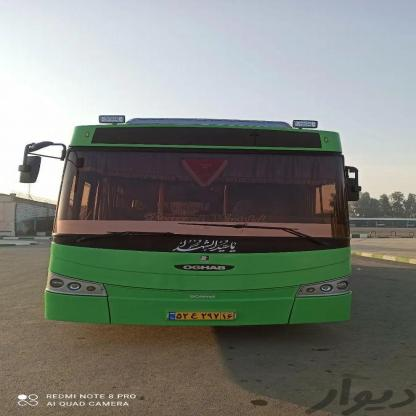Bus: (27, 111, 367, 339)
